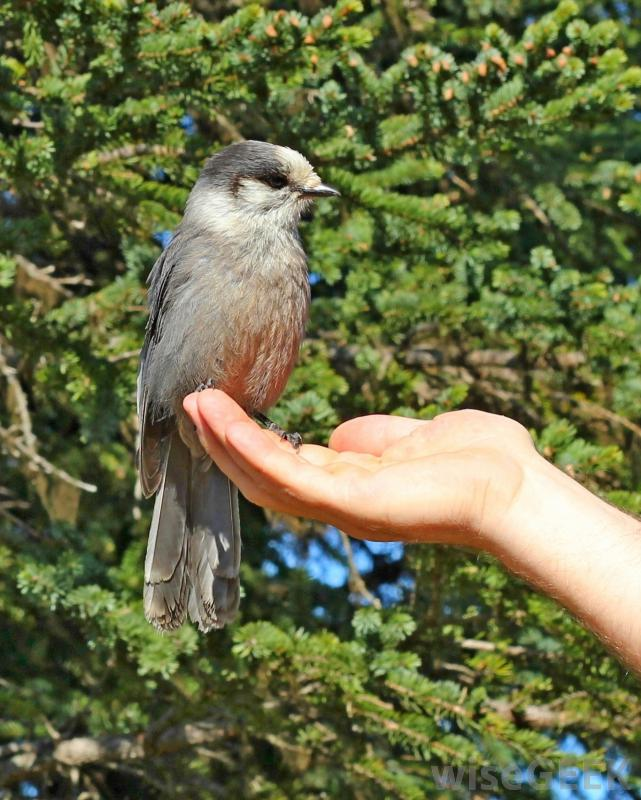bird: (101, 114, 343, 666)
